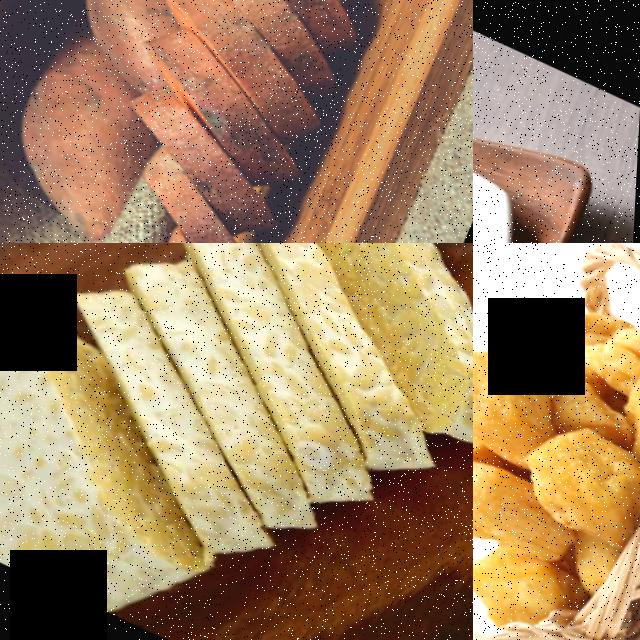sweet potato: (0, 74, 156, 243)
tempeh: (0, 243, 473, 640)
tofu: (513, 405, 640, 546), (473, 329, 562, 456), (473, 463, 580, 561), (608, 355, 640, 453)
